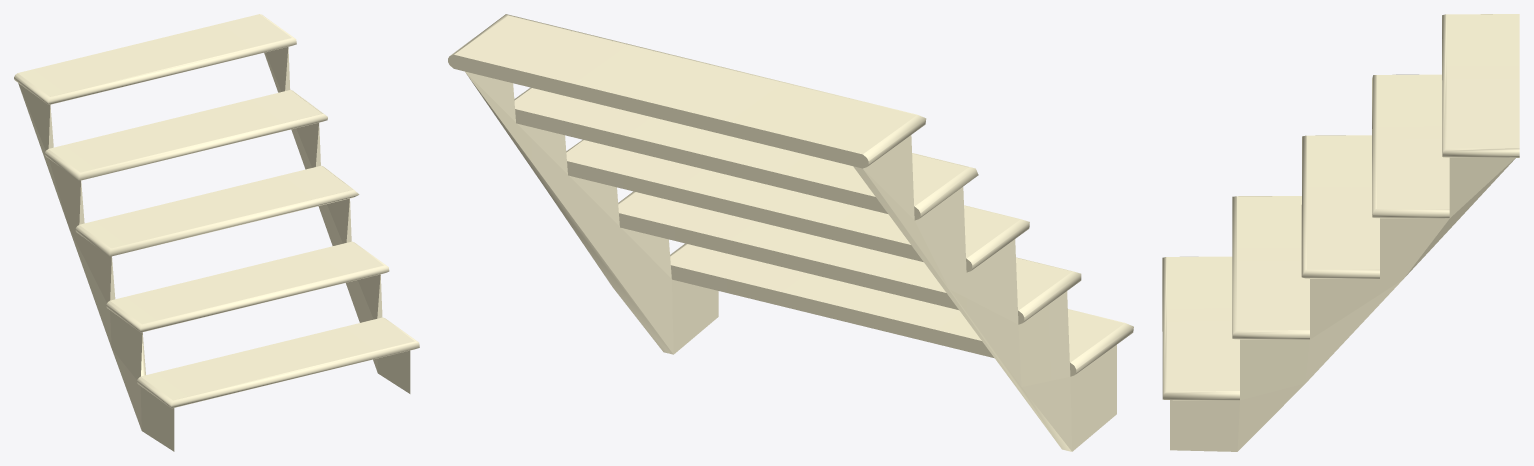
File: 29ede6af-4379-4e7f-b001-65de179a1bd2.glb
3 renders of one model, left to right at view 1: azimuth 30°, elevation 25°; view 2: azimuth 150°, elevation 25°; view 3: azimuth 270°, elevation 25°, orthographic. The views are drawn at different scales.
Visible parts, largest first — view 1: ArtDecoStairs.001; view 2: ArtDecoStairs.001; view 3: ArtDecoStairs.001.
Part boxes in pixels (x1,y1,x2,y2): ArtDecoStairs.001: [14, 14, 419, 451]; ArtDecoStairs.001: [448, 14, 1133, 451]; ArtDecoStairs.001: [1162, 14, 1519, 451].
Size of what is drawn, in the model's own units: 1.4 by 1.43 by 1.52.
1 material, 1 textured.
